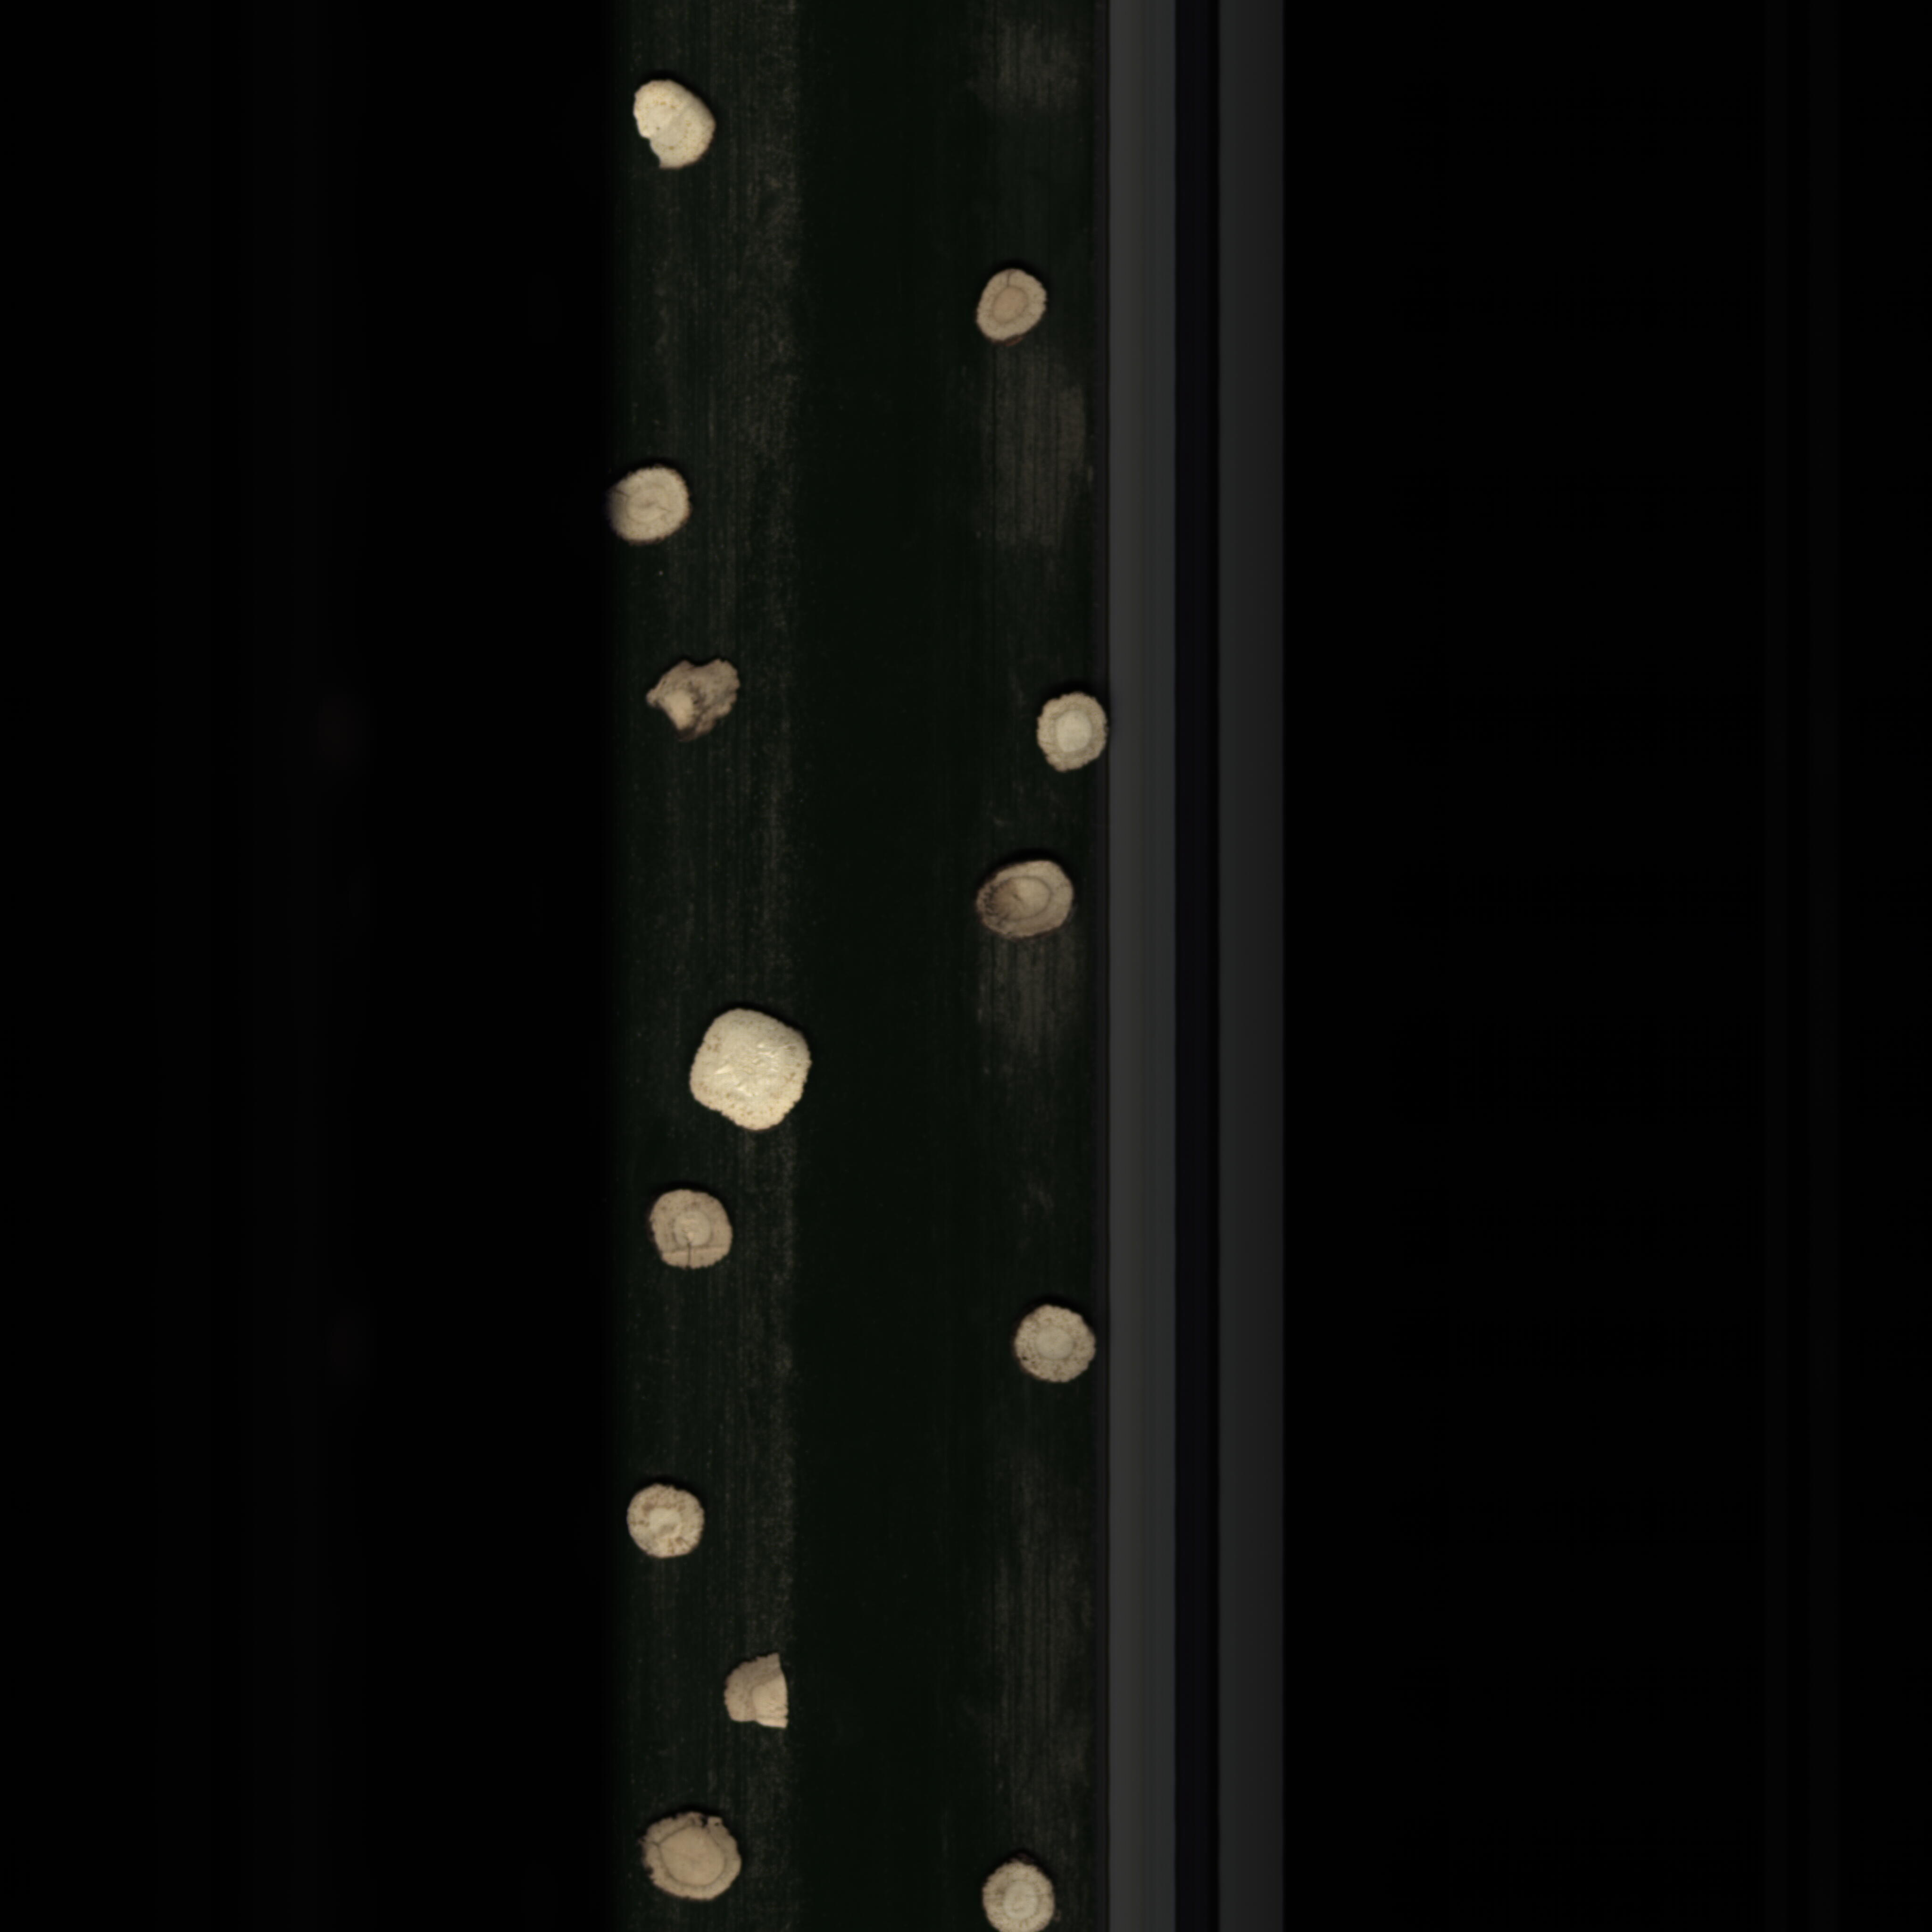debris: (623, 71, 720, 188), (713, 1654, 803, 1736)
moldy: (633, 644, 741, 752), (968, 855, 1085, 952)
